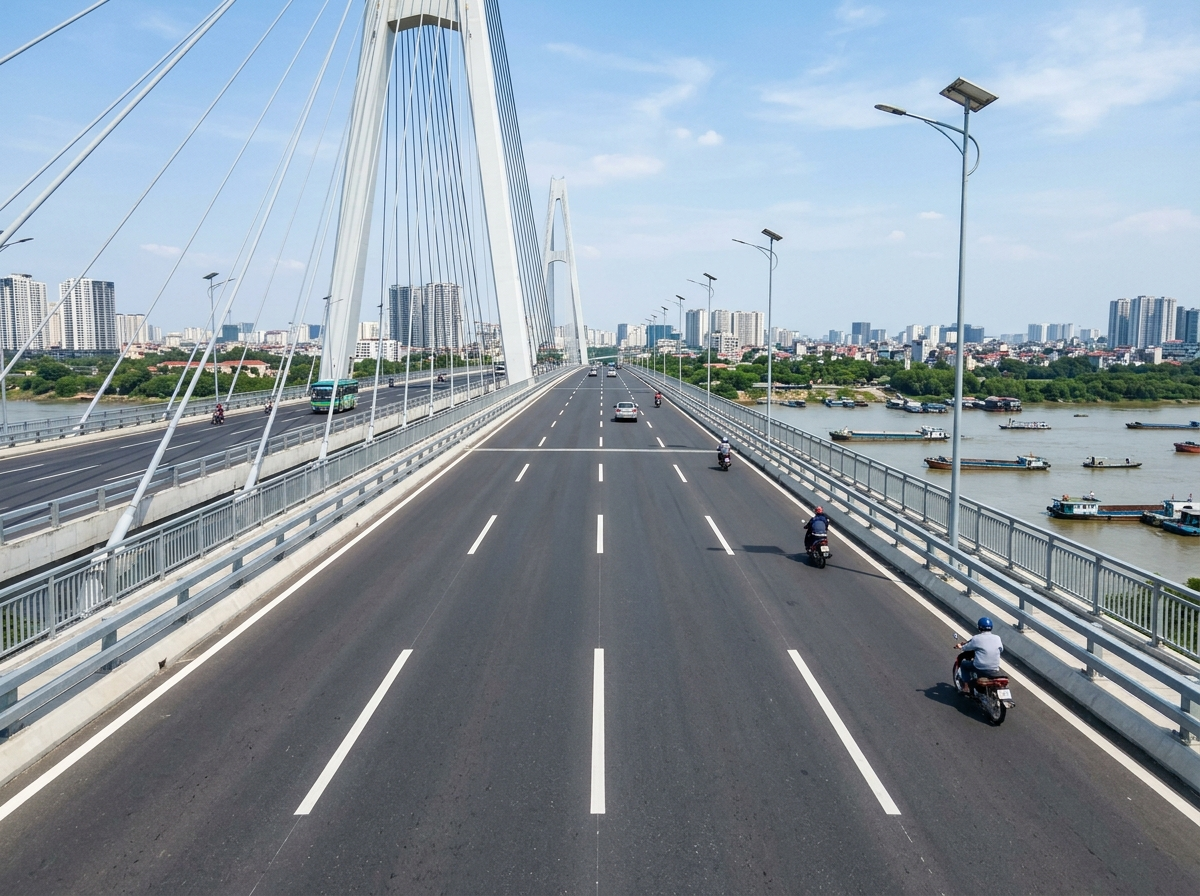ROAD_FLOODING: (132, 349, 1140, 797)
